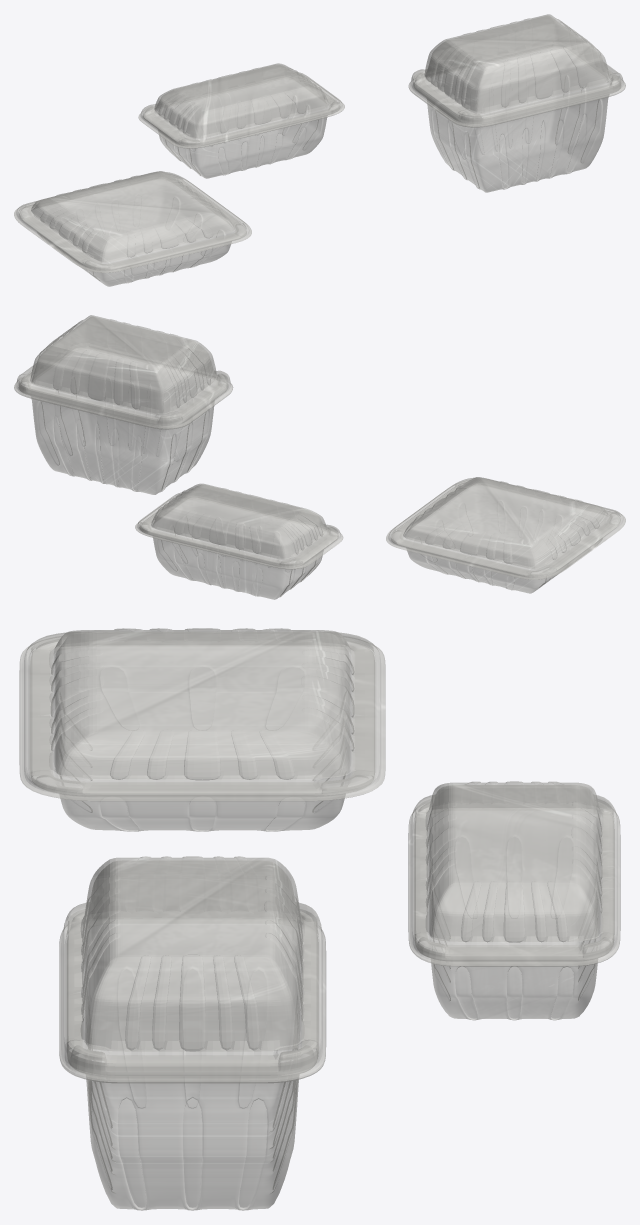
The model's file is charolas kit.glb.
The picture shows the model from 3 angles, top to bottom: view 1: azimuth 30°, elevation 25°; view 2: azimuth 150°, elevation 25°; view 3: azimuth 270°, elevation 25°; orthographic projection. The views are drawn at different scales.
Visible parts, largest first — view 1: Cube.003, Cube.005, Cube.004, Cube.002, Cube.001, Cube.006; view 2: Cube.003, Cube.005, Cube.004, Cube.002, Cube.001, Cube.006; view 3: Cube.005, Cube.003, Cube.004, Cube.002, Cube.006, Cube.001.
Boxes of the visible parts, <box> form: Cube.003: <box>408,14,625,127</box>; Cube.005: <box>14,171,251,272</box>; Cube.004: <box>413,44,620,192</box>; Cube.002: <box>138,63,344,148</box>; Cube.001: <box>143,77,339,178</box>; Cube.006: <box>19,176,246,286</box>; Cube.003: <box>14,315,233,429</box>; Cube.005: <box>386,477,625,579</box>; Cube.004: <box>19,345,227,494</box>; Cube.002: <box>135,483,343,569</box>; Cube.001: <box>140,497,338,599</box>; Cube.006: <box>391,482,620,593</box>; Cube.005: <box>19,628,385,801</box>; Cube.003: <box>59,856,326,1083</box>; Cube.004: <box>67,911,318,1210</box>; Cube.002: <box>408,781,620,966</box>; Cube.006: <box>30,639,374,831</box>; Cube.001: <box>414,802,614,1020</box>.
Size of the model in its own units: 1.2 by 0.2652 by 0.5675.
9 materials, 9 textured.
